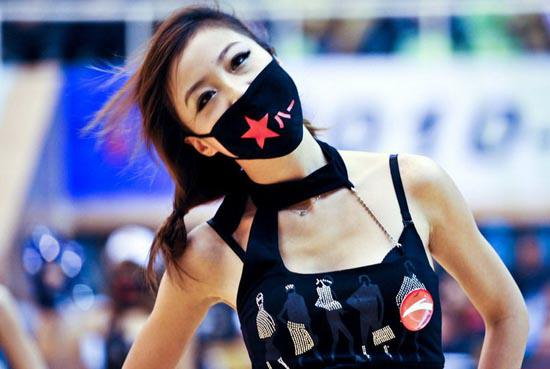WRONG: (183, 38, 303, 158)
